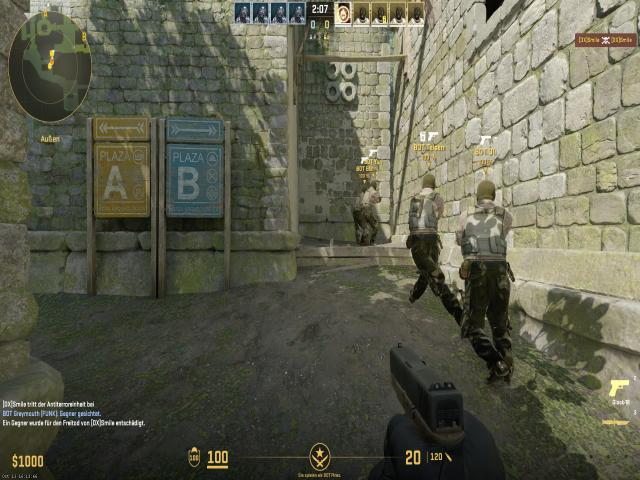Bomb: (409, 193, 427, 224)
T: (460, 177, 514, 364), (408, 170, 448, 317), (363, 178, 381, 247), (352, 183, 370, 243)
T-Head: (475, 179, 499, 209), (416, 169, 442, 196), (370, 179, 380, 194), (362, 187, 369, 196)
